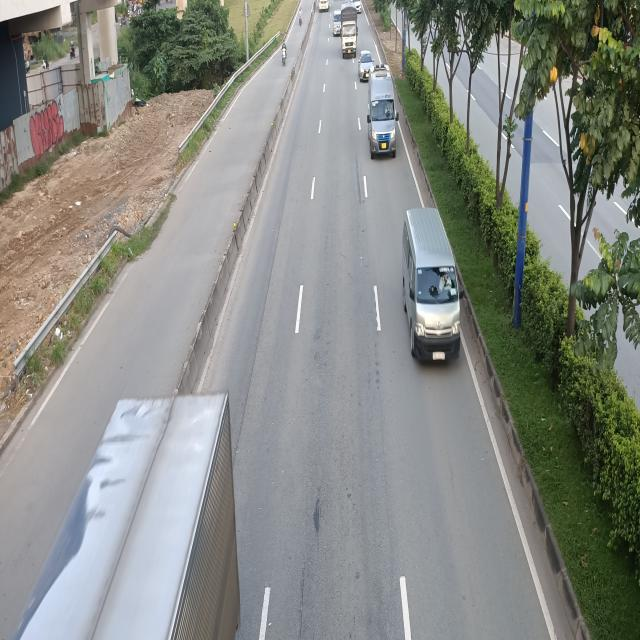car: (358, 50, 374, 81)
truck: (341, 3, 360, 58)
van: (405, 208, 465, 363), (366, 72, 398, 161)
